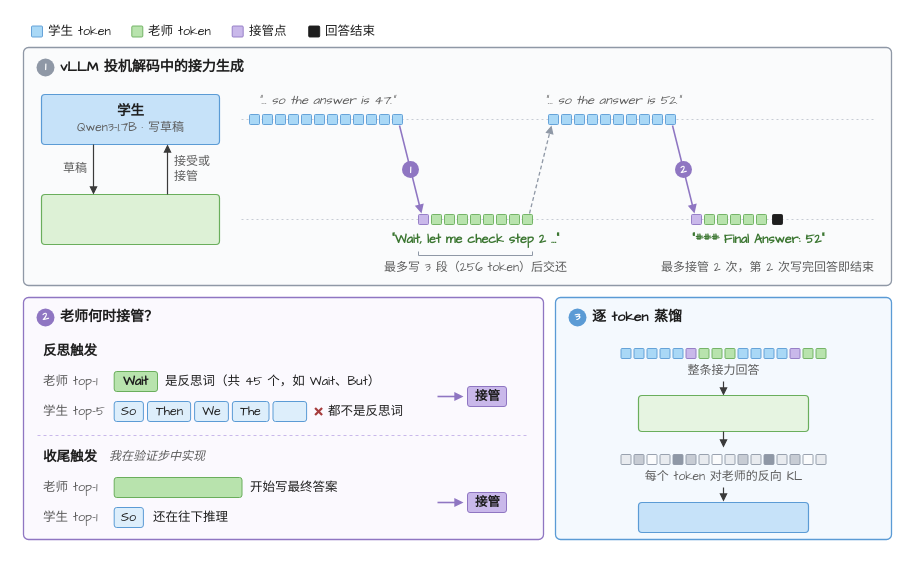
This 914x562 diagram has some shape labels left out. Each missing label, with the centre of its shape:
"### Final Answer" goes at point (177, 487).
"Let" goes at point (289, 411).
"更新学生" goes at point (723, 517).
"老师 Qwen3-4B · 验证" goes at point (130, 219).
"老师打分器 单独一张卡" goes at point (723, 413).
